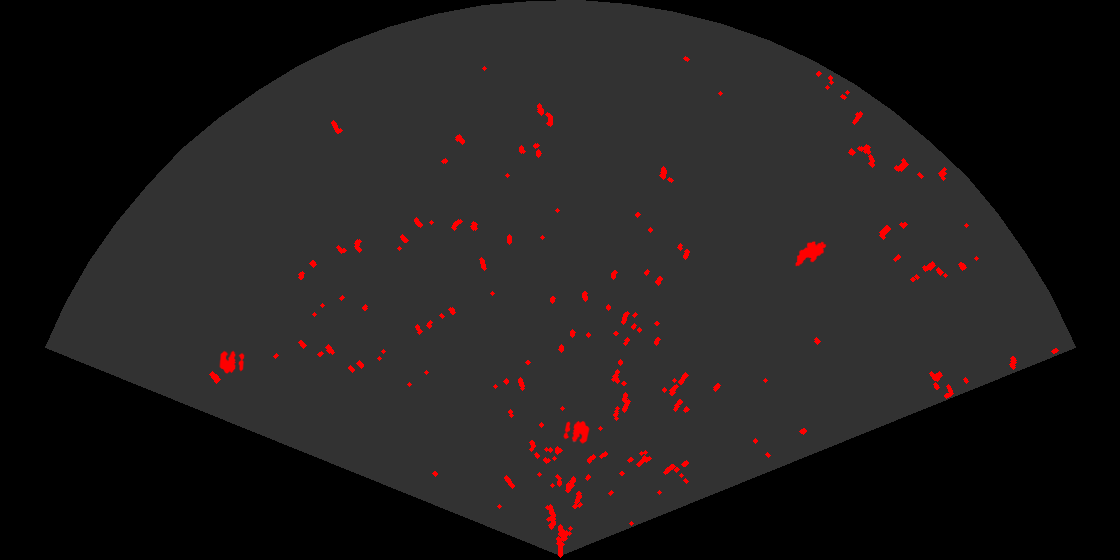AUV: (793, 239, 828, 268)
ball: (562, 419, 591, 446), (218, 349, 246, 375)
